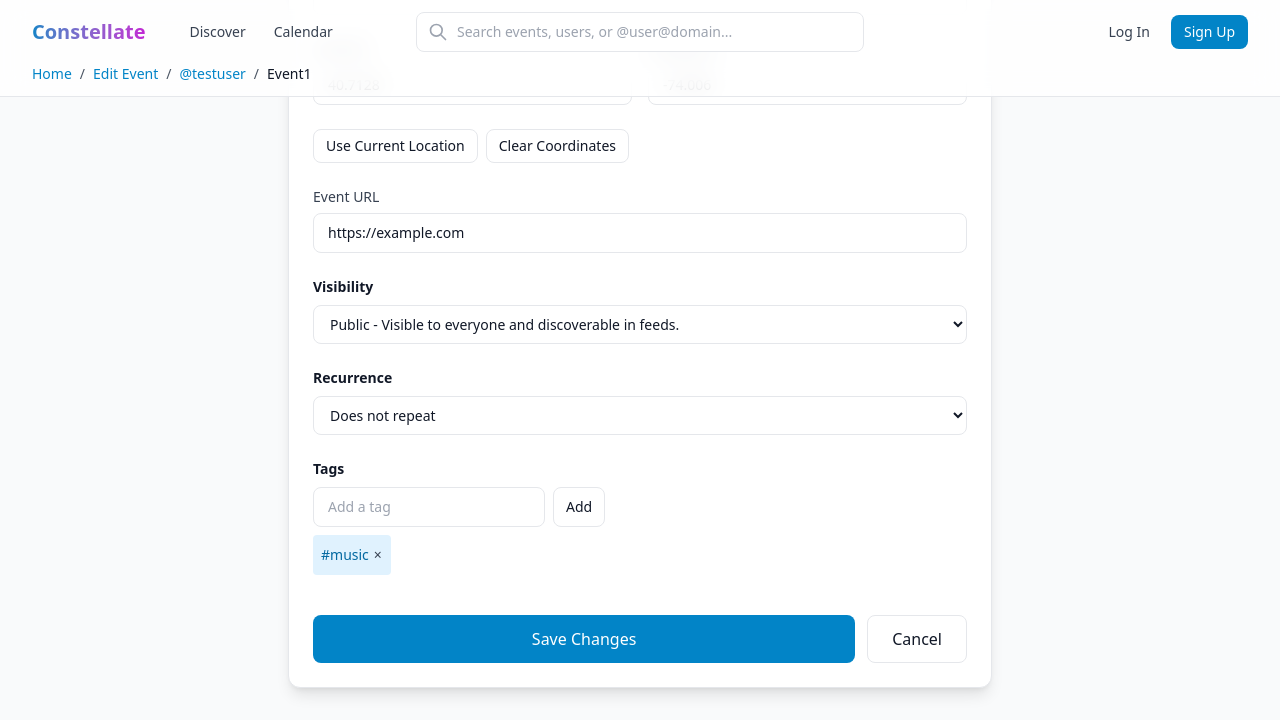
Test: EditEventPage › should remove tags
(page scrolled)
Expected: the link "Edit Event" is shown, [93, 64, 158, 84]
Expected: the text "#music" is shown, [313, 535, 391, 575]
Click the button "×".
click(378, 555)  # box [373, 539, 383, 571]
(page scrolled)
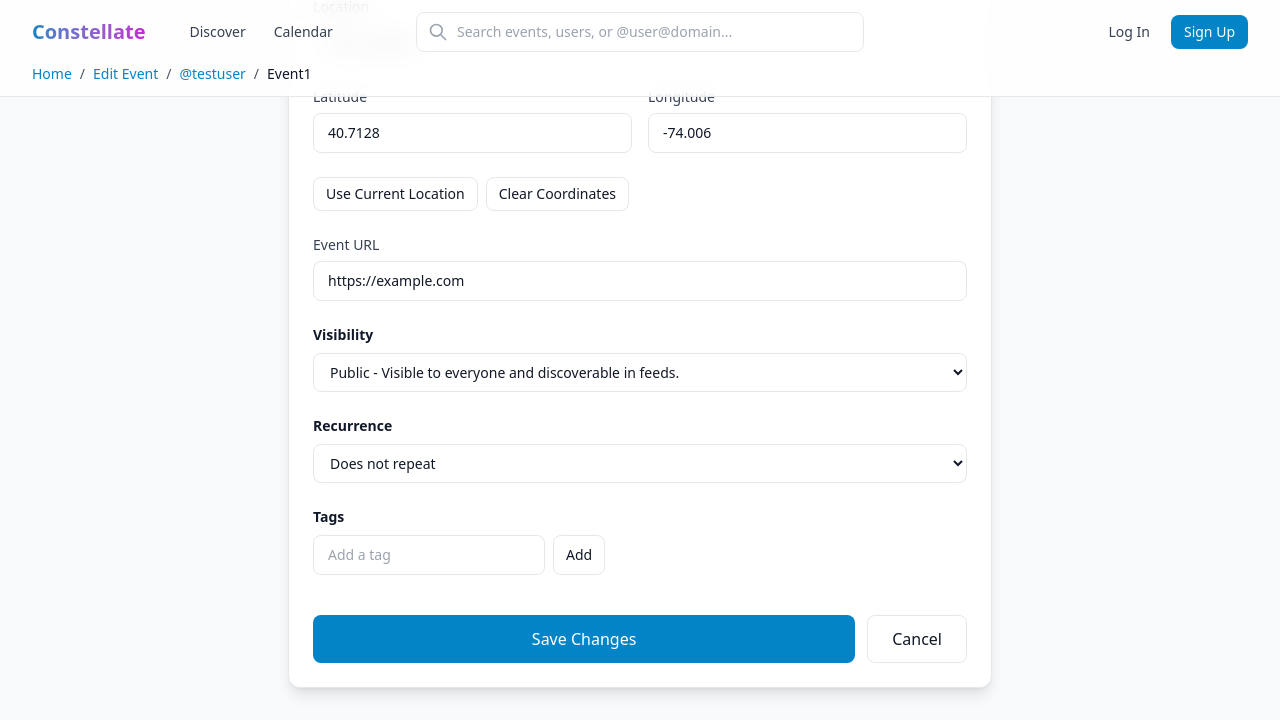
Now the text "#music" is gone
